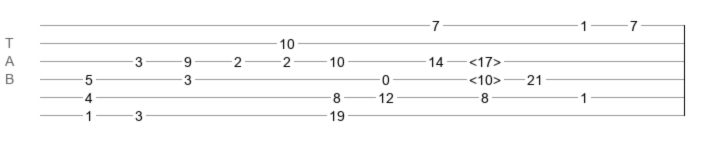0: (382, 72, 390, 82)
1: (85, 108, 93, 118), (580, 90, 588, 100), (580, 18, 588, 28)
10: (279, 36, 295, 46), (329, 54, 345, 64)
12: (378, 90, 394, 100)
14: (428, 54, 444, 64)
19: (329, 108, 345, 118)
2: (234, 54, 242, 64), (283, 54, 291, 64)
21: (527, 72, 543, 82)
3: (135, 108, 143, 118), (135, 54, 143, 64), (184, 72, 192, 82)
4: (85, 90, 93, 100)
5: (85, 72, 93, 82)
7: (432, 18, 440, 28), (630, 18, 638, 28)
8: (333, 90, 341, 100), (481, 90, 489, 100)
9: (184, 54, 192, 64)
harmonic: (469, 72, 501, 82), (469, 54, 501, 64)
